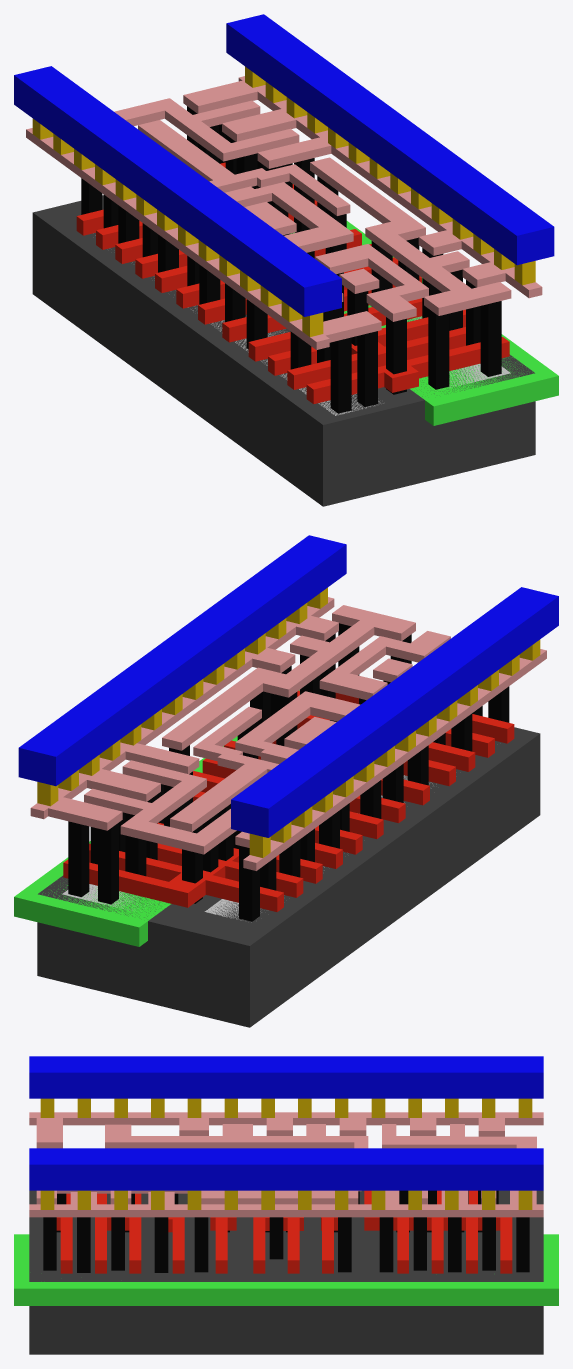
File: sky130_fd_sc_hd__a211o_4.obj
3 views of the same model, one above another, from view 1: azimuth 30°, elevation 25°; view 2: azimuth 150°, elevation 25°; view 3: azimuth 270°, elevation 25° (orthographic). The views are drawn at different scales.
Visible parts, largest first — view 1: subs, metal1, li, licon, poly, mcon, nwell, tap; view 2: subs, metal1, li, licon, poly, mcon, nwell; view 3: metal1, subs, li, nwell, poly, licon, mcon.
Part boxes in pixels (bbox=[...]): subs: bbox=[32, 195, 535, 506]; metal1: bbox=[14, 14, 554, 316]; li: bbox=[26, 76, 542, 349]; licon: bbox=[81, 106, 501, 413]; poly: bbox=[76, 162, 509, 404]; mcon: bbox=[32, 66, 535, 336]; nwell: bbox=[290, 221, 558, 425]; tap: bbox=[407, 316, 510, 387]; subs: bbox=[37, 727, 540, 1027]; metal1: bbox=[18, 535, 558, 837]; li: bbox=[30, 597, 546, 870]; licon: bbox=[68, 623, 509, 921]; poly: bbox=[63, 690, 514, 911]; mcon: bbox=[37, 587, 540, 857]; nwell: bbox=[14, 690, 299, 946]; metal1: bbox=[29, 1056, 543, 1190]; subs: bbox=[29, 1190, 543, 1354]; li: bbox=[29, 1112, 543, 1217]; nwell: bbox=[14, 1234, 558, 1305]; poly: bbox=[56, 1190, 512, 1273]; licon: bbox=[43, 1190, 529, 1272]; mcon: bbox=[40, 1098, 532, 1209].
Bounding box in the file's own units: 3.2 × 2.74 × 6.82.
